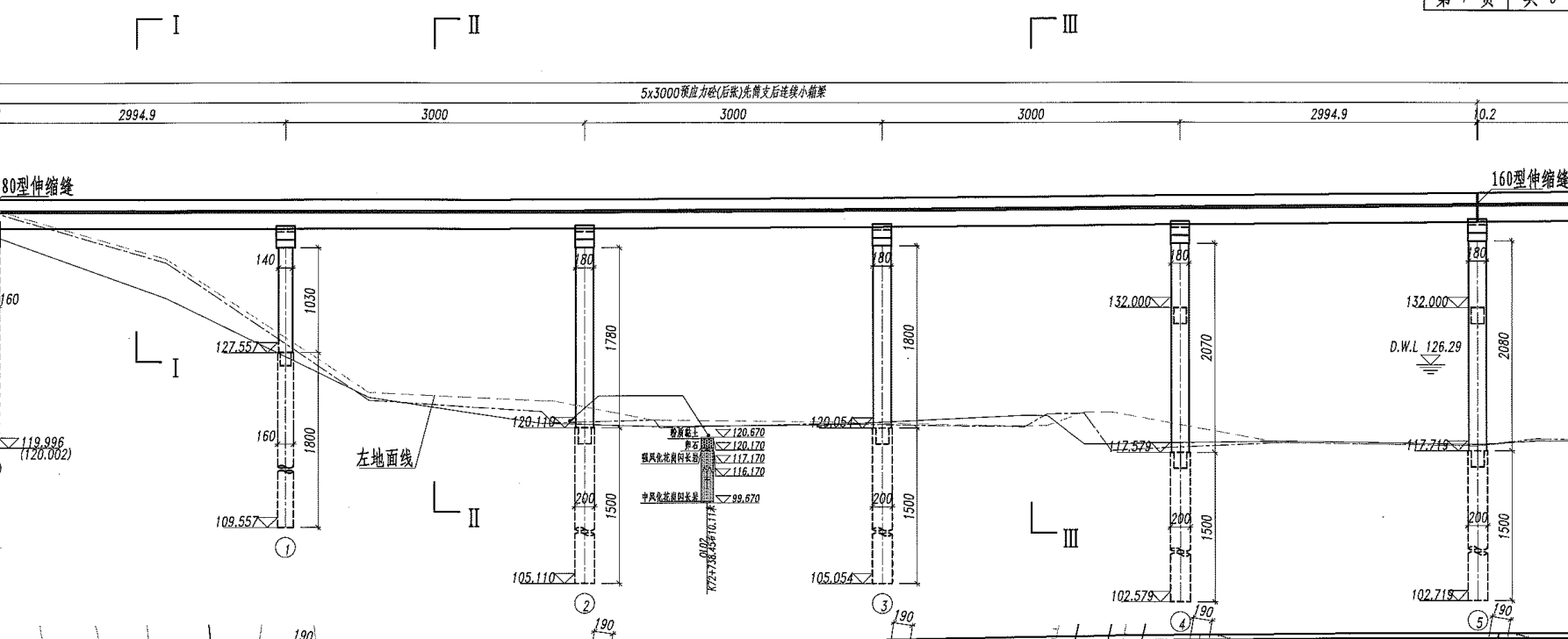C: (1378, 212, 1508, 639), (1095, 213, 1211, 639), (501, 218, 615, 626), (801, 217, 910, 622), (205, 217, 312, 567)
D: (1383, 334, 1469, 379)
